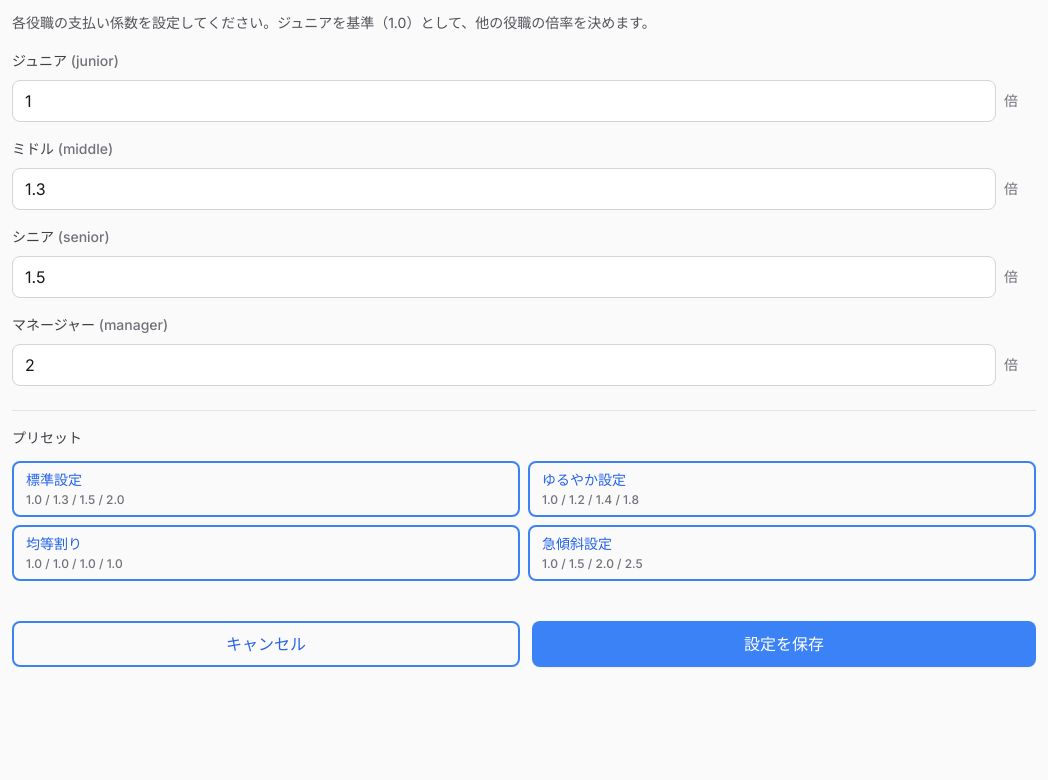
Test: RoleSettingsForm › TC014: ゆるやか設定プリセットが動作する
Click the button "ゆるやか設定 1.0 / 1.2 / 1.4 / 1.8".
click(584, 480)  # box [528, 461, 1036, 517]
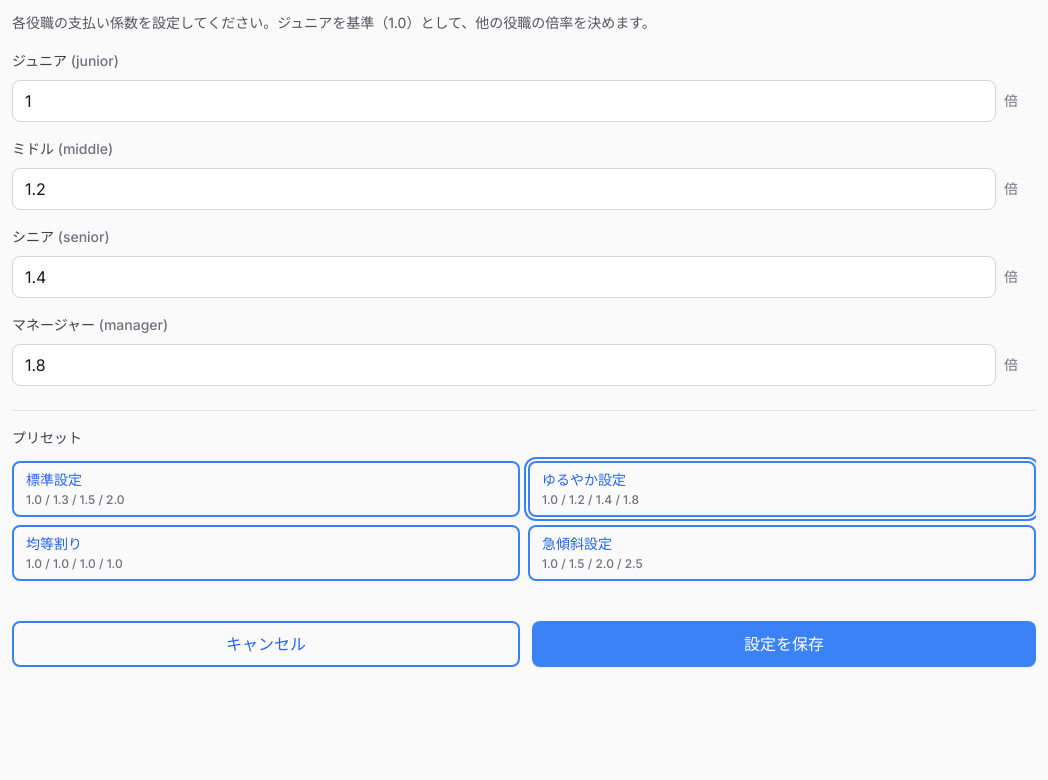
Expected: the number field labelled "ミドル (middle)" holds "1.2", [12, 168, 996, 210]
Expected: the number field labelled "シニア (senior)" holds "1.4", [12, 256, 996, 298]
Expected: the number field labelled "マネージャー (manager)" holds "1.8", [12, 344, 996, 386]
